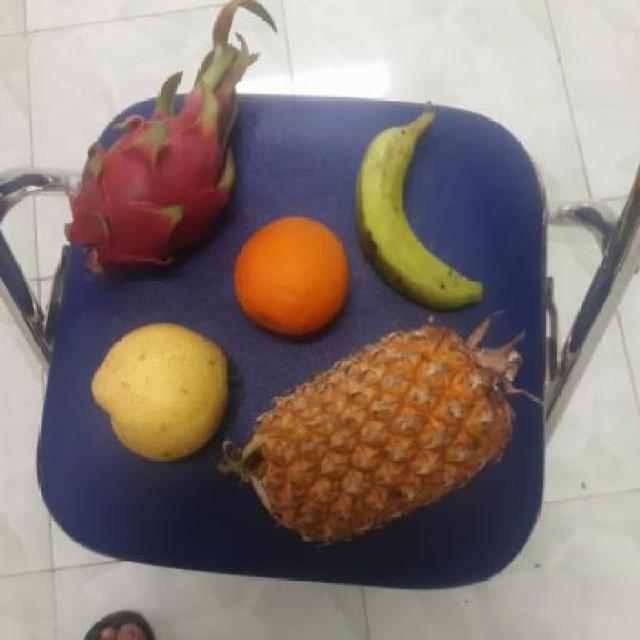banana: (358, 117, 480, 308)
dragon fruit: (78, 90, 247, 279)
oren: (232, 216, 354, 335)
pear: (89, 324, 240, 461)
pineapple: (240, 328, 523, 554)
